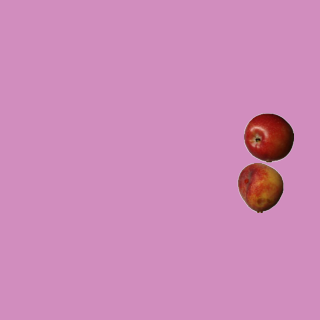Apple Braeburn: (243, 112, 293, 162)
Peach: (235, 162, 285, 212)
